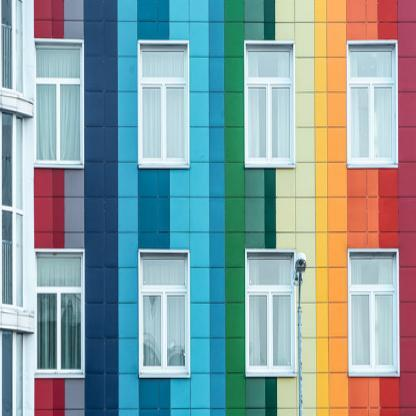Building Outline: (0, 0, 415, 416)
Dont: (293, 252, 308, 415)
Facade: (0, 0, 416, 416)
Floor: (23, 0, 415, 208), (22, 219, 415, 416)
Floor Slab: (23, 208, 415, 220)
Window: (348, 44, 395, 162), (348, 253, 395, 371), (35, 45, 82, 163), (35, 254, 82, 372), (141, 45, 188, 163), (141, 254, 188, 372), (246, 45, 293, 163), (246, 254, 293, 372), (0, 111, 23, 309), (1, 0, 23, 95), (0, 330, 23, 416)
